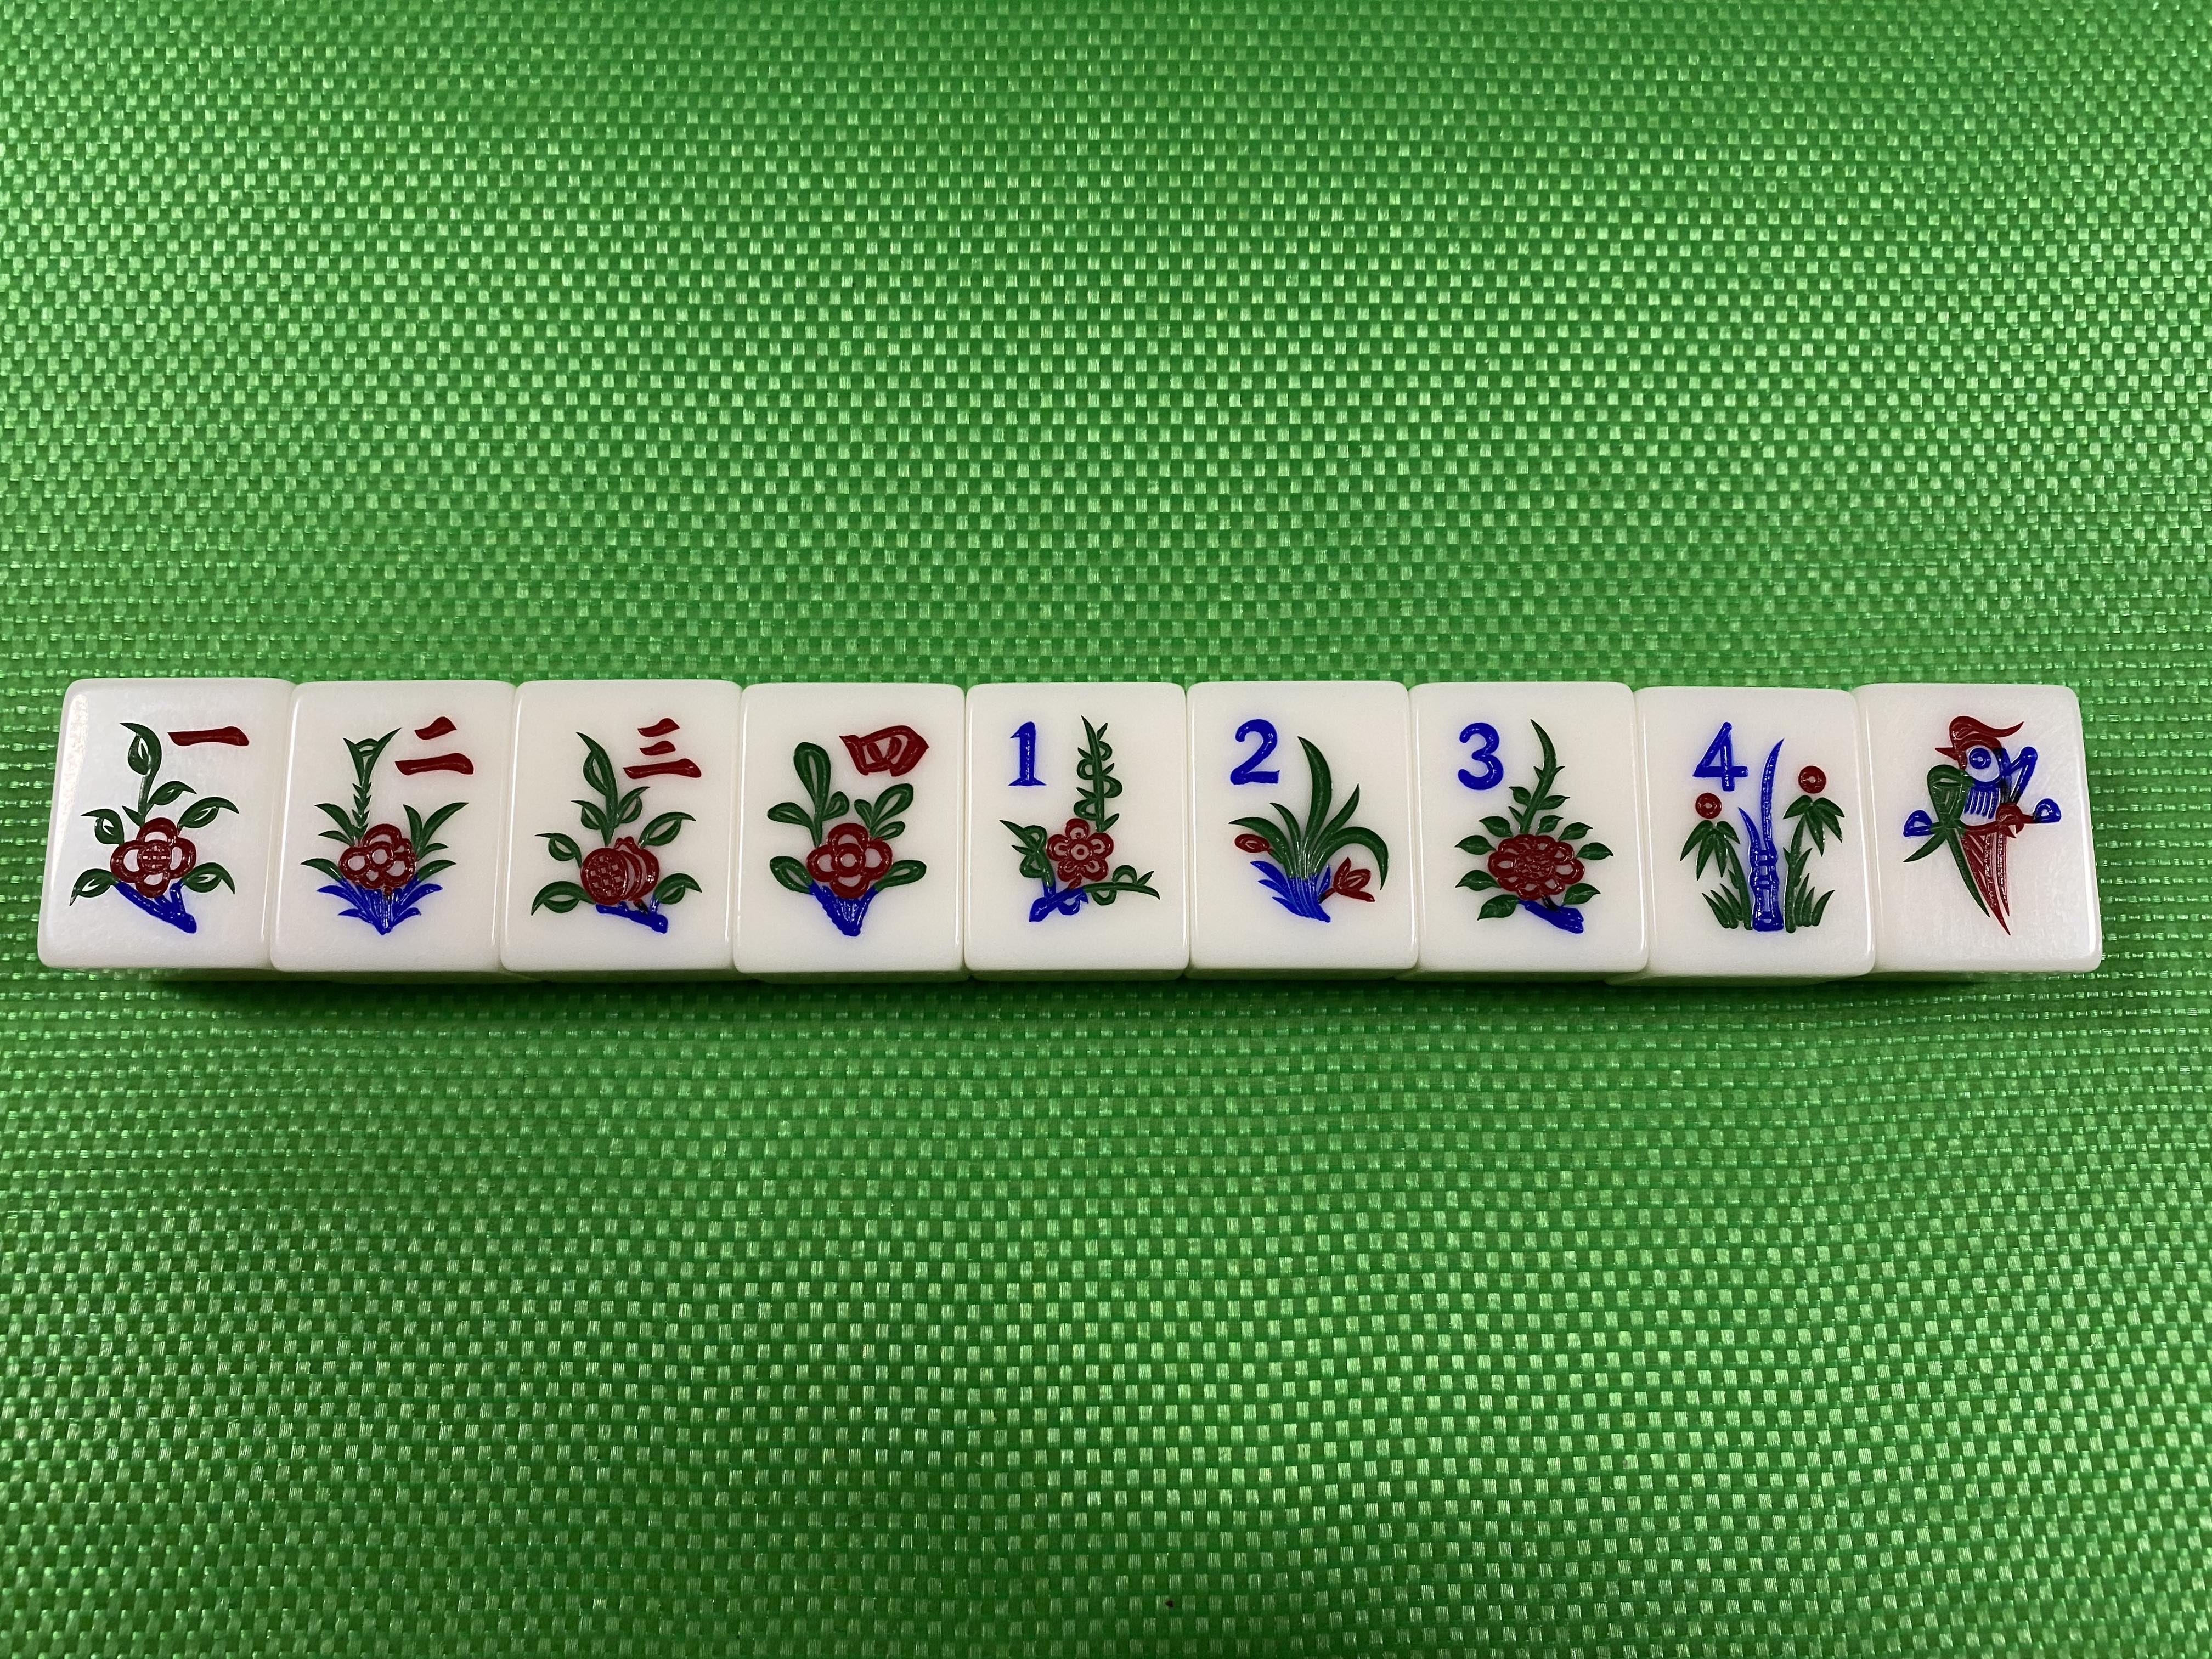bamboo-one: (1862, 687, 2102, 972)
flower-blue_four: (1637, 688, 1878, 976)
flower-blue_one: (963, 683, 1191, 971)
flower-blue_three: (1411, 681, 1649, 967)
flower-blue_two: (1190, 681, 1420, 969)
flower-red_four: (730, 683, 967, 972)
flower-red_one: (35, 678, 294, 965)
flower-red_three: (498, 680, 740, 969)
flower-red_two: (268, 681, 514, 969)
